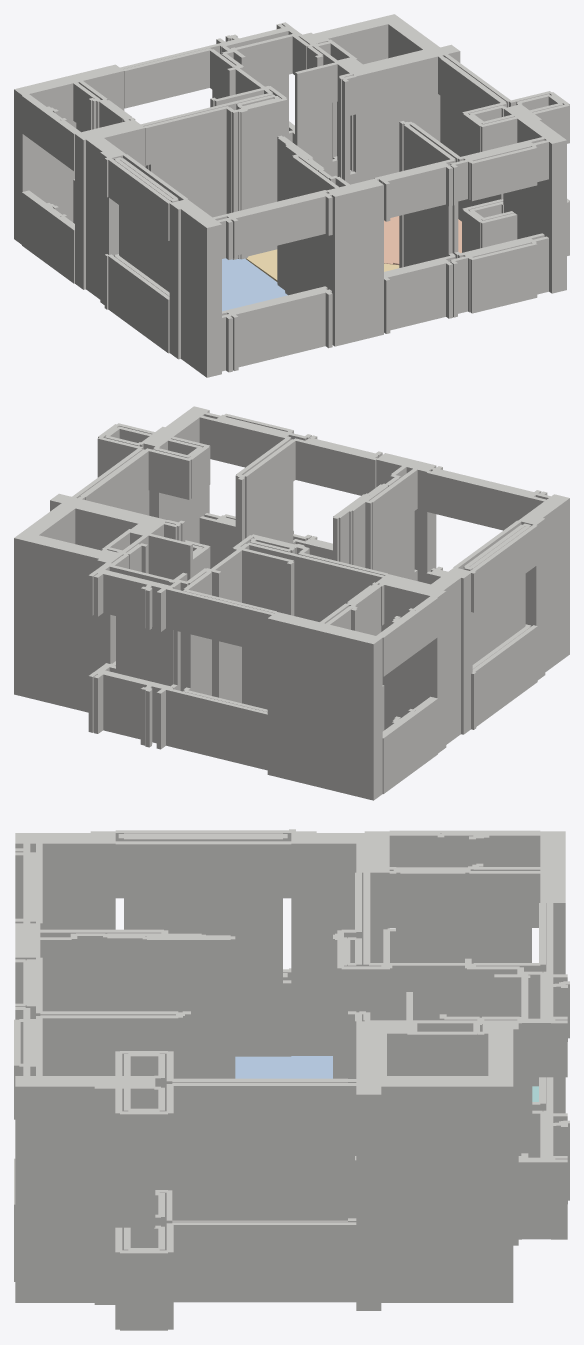
The picture shows the model from 3 angles, top to bottom: view 1: azimuth 30°, elevation 25°; view 2: azimuth 150°, elevation 25°; view 3: azimuth 270°, elevation 25°; orthographic projection. The views are drawn at different scales.
Visible parts, largest first — view 1: walls, room:bedroom:3, room:kitchen:5, room:living:4; view 2: walls; view 3: walls, room:bedroom:3.
Boxes of the visible parts, left/top/right/bottom form: walls: left=14, top=14, right=569, bottom=377; room:bedroom:3: left=222, top=258, right=287, bottom=311; room:kitchen:5: left=384, top=216, right=461, bottom=264; room:living:4: left=246, top=249, right=399, bottom=281; walls: left=14, top=406, right=569, bottom=800; walls: left=14, top=829, right=569, bottom=1330; room:bedroom:3: left=235, top=1056, right=332, bottom=1078.
Size of the model in its own units: 7.91 by 2.8 by 6.52.
